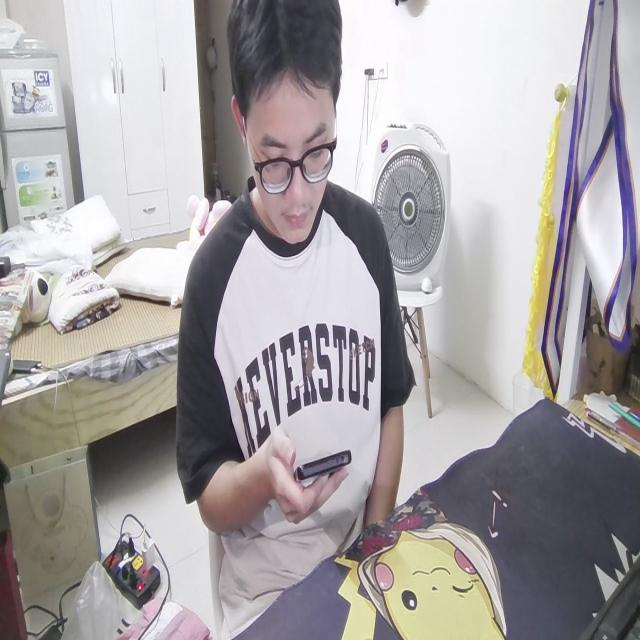phone: (293, 447, 356, 481)
student: (177, 0, 407, 640)
